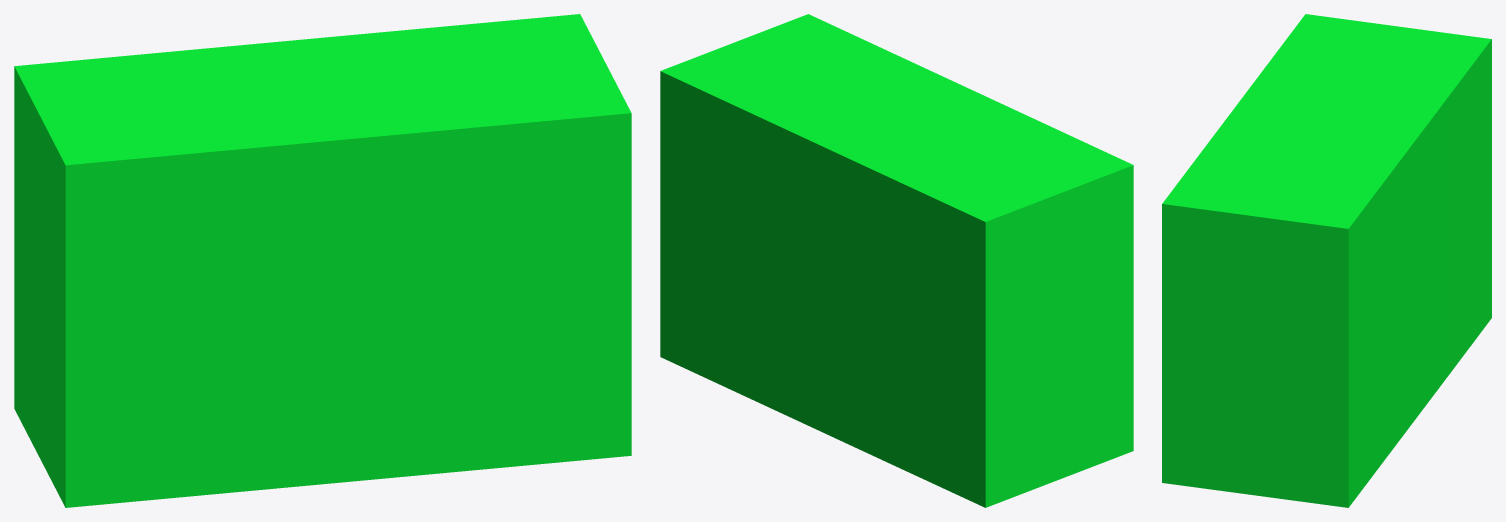
The model's file is DEHB01ALj0003AVB.dae.
3 renders of one model, left to right at view 1: azimuth 30°, elevation 25°; view 2: azimuth 150°, elevation 25°; view 3: azimuth 270°, elevation 25°, orthographic. The views are drawn at different scales.
Size of the model in its own units: 3.63 by 2.35 by 2.2.
